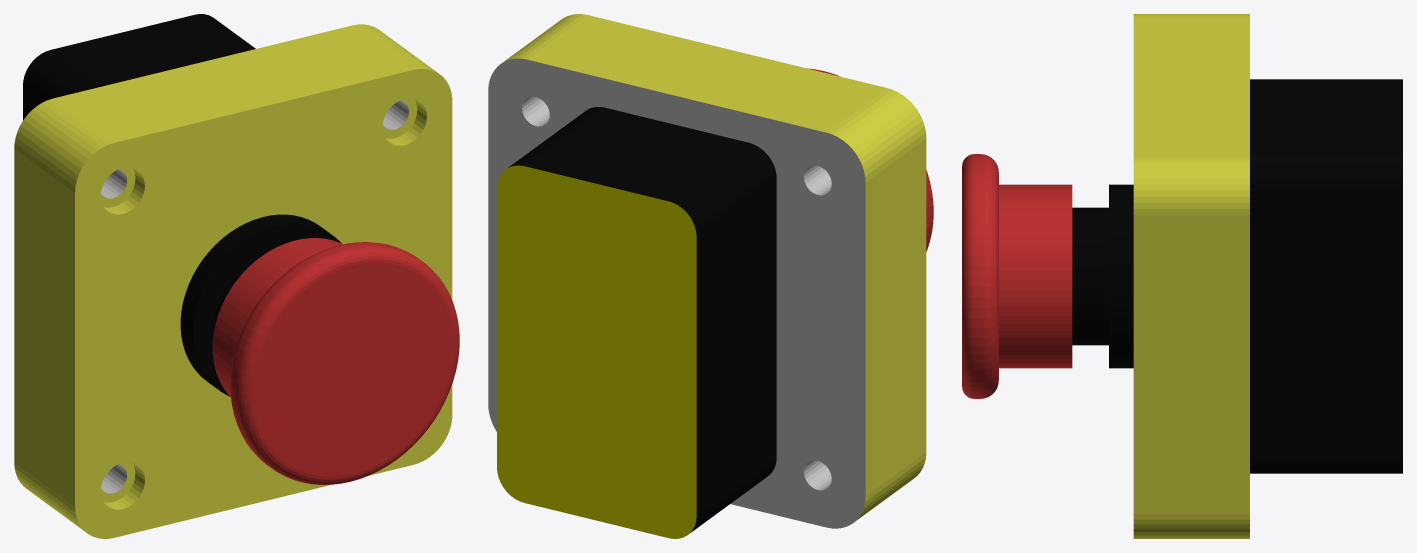
File: button.glb
3 renders of one model, left to right at view 1: azimuth 30°, elevation 25°; view 2: azimuth 150°, elevation 25°; view 3: azimuth 270°, elevation 25°, orthographic. The views are drawn at different scales.
Visible parts, largest first — view 1: entity_6; view 2: entity_6; view 3: entity_6.
Boxes of the visible parts, x1,y1,x2,y2 form: entity_6: (14,14,459,538); entity_6: (488,14,933,538); entity_6: (962,14,1402,538).
Bounding box in the file's own units: 6.8 × 6.8 × 7.2.
